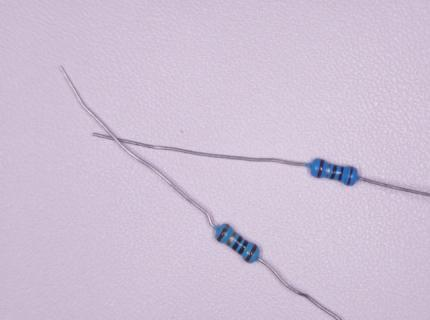Black band: (232, 236, 243, 251), (238, 239, 248, 255), (330, 165, 337, 180), (338, 166, 344, 181)
Brown band: (244, 244, 258, 262), (217, 225, 230, 242), (317, 159, 324, 178), (347, 166, 353, 186)
Gold band: (226, 232, 237, 246), (326, 163, 331, 178)
